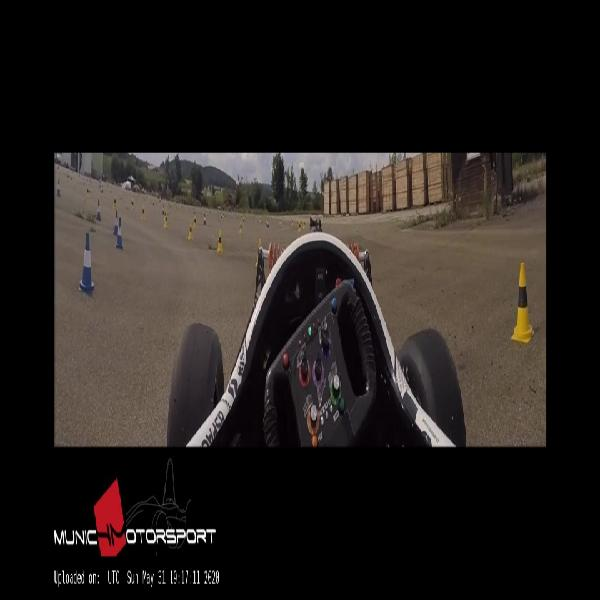blue_cone: (78, 232, 94, 292), (115, 217, 123, 249), (113, 210, 118, 235)
yellow_cone: (511, 263, 534, 342), (217, 230, 223, 252), (188, 223, 192, 240)
